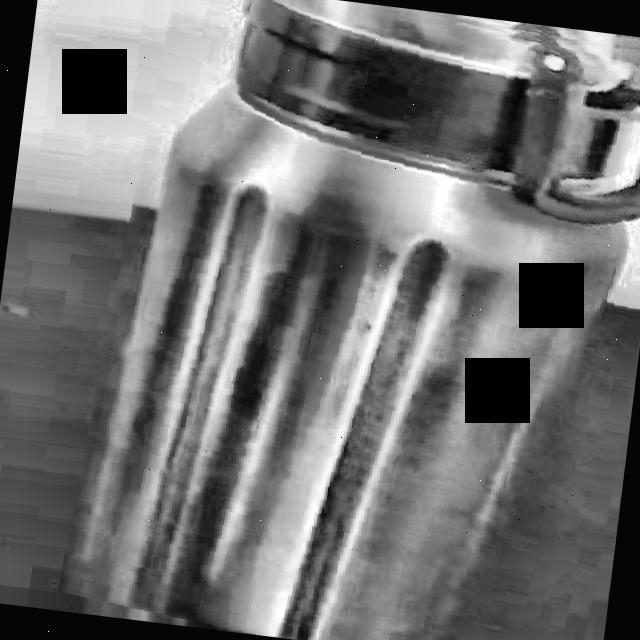bottle: (57, 0, 640, 640)
